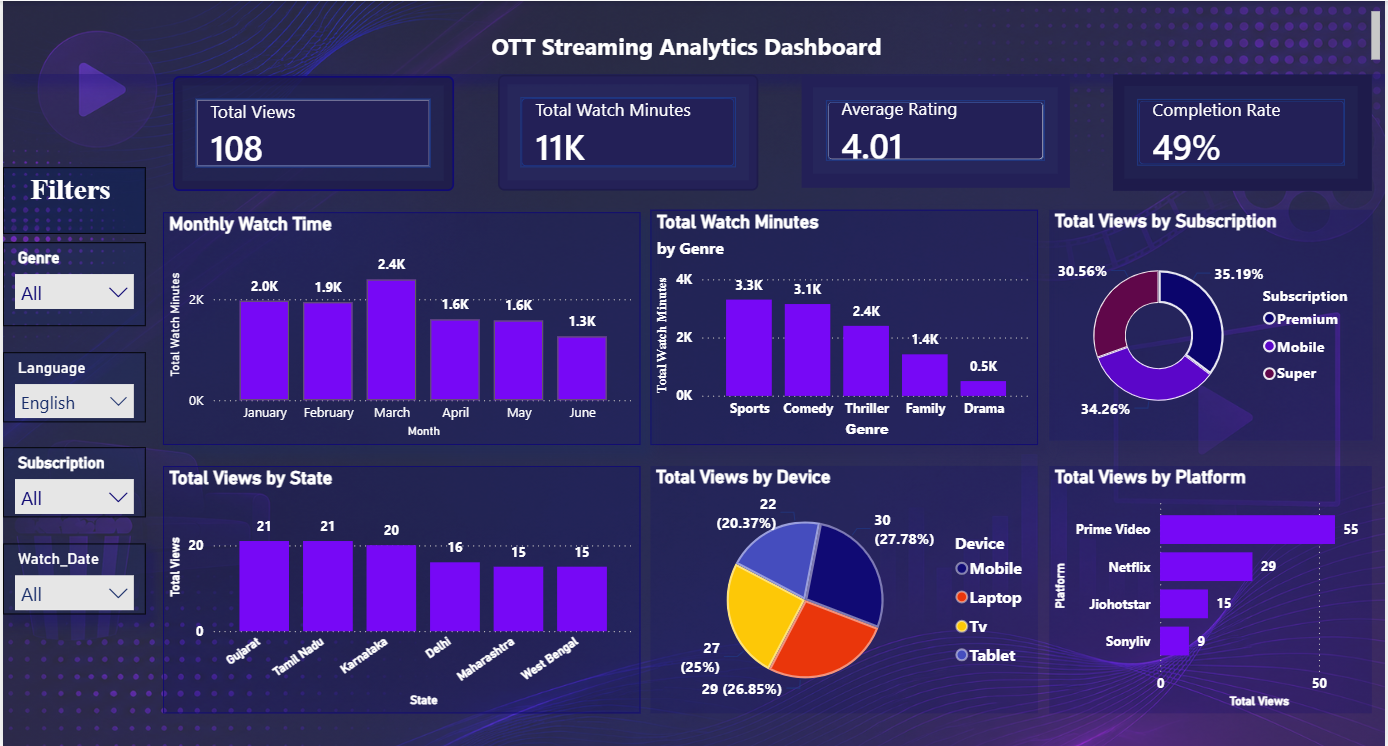

This screenshot's page, from the dashboard's own definition file:
{"tool":"powerbi","page":{"name":"Page 1","canvas":[1278,690],"ordinal":0},"visuals":[{"type":"textbox","box":[0,4.6,1278.5,63.5],"z":0},{"type":"cardVisual","fields":{"Data":["Table m.Total Views"]},"box":[157.2,69.1,260.2,106.4],"z":0,"group":"g1"},{"type":"group","id":"g1","title":"Group 1","box":[157.2,68.2,1108.8,107.5],"z":1000},{"type":"cardVisual","fields":{"Data":["Table m.Total Watch Minutes"]},"box":[458,68.2,241.2,107.5],"z":1000,"group":"g1"},{"type":"cardVisual","fields":{"Data":["Table m.Average Rating"]},"box":[739.1,69.4,248.2,102.8],"z":2000,"group":"g1"},{"type":"clusteredColumnChart","fields":{"Y":["Table m.Total Watch Minutes"],"Category":["Shows.Genre"]},"box":[598.9,193.1,358.4,217.4],"z":2000},{"type":"cardVisual","fields":{"Data":["Table m.Completion Rate"]},"box":[1027.1,68.3,238.8,107.5],"z":3000,"group":"g1"},{"type":"donutChart","fields":{"Category":["Watch_History.Subscription"],"Y":["Table m.Total Views"]},"box":[967.7,193.1,299.4,213.9],"z":3000},{"type":"pieChart","fields":{"Y":["Table m.Total Views"],"Category":["Watch_History.Device"]},"box":[598.9,430.1,358.4,228.9],"z":4000},{"type":"columnChart","fields":{"Category":["Watch_History.State"],"Y":["Measure Table.Total Views"]},"box":[148,430.1,441.7,228.9],"z":5000},{"type":"slicer","fields":{"Values":["Shows.Genre"]},"box":[0,223.6,131.8,77.5],"z":6000},{"type":"slicer","fields":{"Values":["Shows.Language"]},"box":[0,324.7,131.7,64.7],"z":7000},{"type":"slicer","fields":{"Values":["Watch_History.Subscription"]},"box":[0,412.9,131.7,64.7],"z":8000},{"type":"slicer","fields":{"Values":["Watch_History.Watch_Date"]},"box":[0,501.2,131.7,65.8],"z":9000},{"type":"clusteredBarChart","fields":{"Category":["Shows.Platform"],"Y":["Table m.Total Views"]},"box":[967.7,430.1,298.3,228.9],"z":10000},{"type":"clusteredColumnChart","title":"Monthly Watch Time","fields":{"Y":["Measure Table.Total Watch Minutes"],"Category":["Watch_History.Month Start.Variation.Date Hierarchy.Month"]},"box":[148,195.4,441.7,215],"z":11000},{"type":"textbox","box":[0,153.8,131.8,61.3],"z":12000}]}

Visuals, with their boxes in screenshot pixels (x1, y1, x2, y2), scaled from the page's 1278x690 canvas onto the 1388x746 screenshot:
textbox: 0,5,1387,74
cardVisual - Table m.Total Views: 171,75,453,190
"Group 1" group: 171,74,1375,190
cardVisual - Table m.Total Watch Minutes: 497,74,759,190
cardVisual - Table m.Average Rating: 803,75,1072,186
clusteredColumnChart - Table m.Total Watch Minutes x Shows.Genre: 650,209,1040,444
cardVisual - Table m.Completion Rate: 1116,74,1375,190
donutChart - Watch_History.Subscription x Table m.Total Views: 1051,209,1376,440
pieChart - Table m.Total Views x Watch_History.Device: 650,465,1040,712
columnChart - Watch_History.State x Measure Table.Total Views: 161,465,640,712
slicer - Shows.Genre: 0,242,143,326
slicer - Shows.Language: 0,351,143,421
slicer - Watch_History.Subscription: 0,446,143,516
slicer - Watch_History.Watch_Date: 0,542,143,613
clusteredBarChart - Shows.Platform x Table m.Total Views: 1051,465,1375,712
"Monthly Watch Time" clusteredColumnChart: 161,211,640,444
textbox: 0,166,143,233
